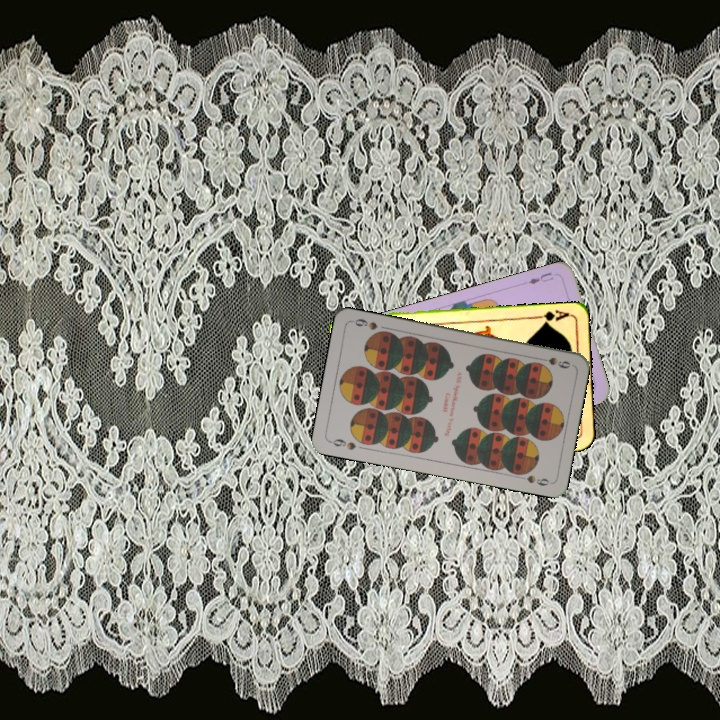EU: (524, 268, 556, 287)
GA: (532, 306, 573, 327)
S9: (533, 353, 573, 371), (326, 435, 359, 452)
